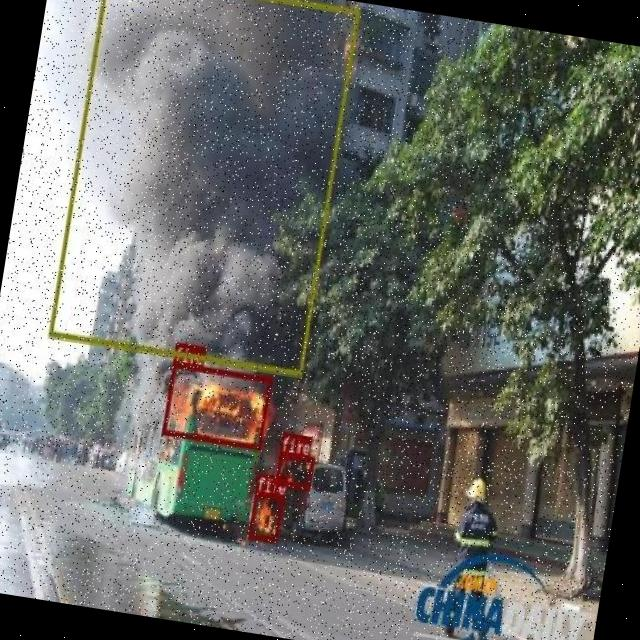smoke: (47, 0, 359, 375)
